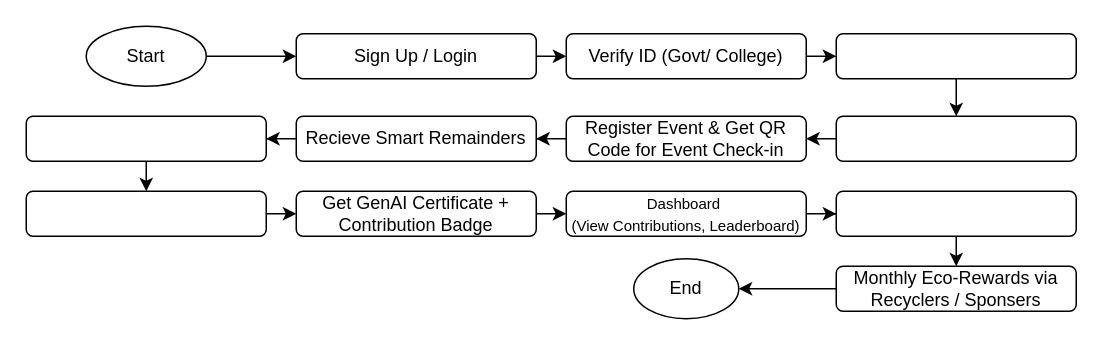
This 1103x345 diagram has some shape labels left out. Here are the shapes that lost their labels. From the top down, the box of each, then its label:
(835, 32, 1076, 79): AI Onboarding (Interests + Event Match)
(25, 115, 266, 161): Attend Event & Check-in (QR/ OTP)
(835, 115, 1076, 161): View Event (Event details, Safety tips, Equipments, Waste Videos)
(25, 190, 266, 236): Submit Waste Log (Photos + Waste Types)
(835, 190, 1076, 236): Join Volunteer Community
